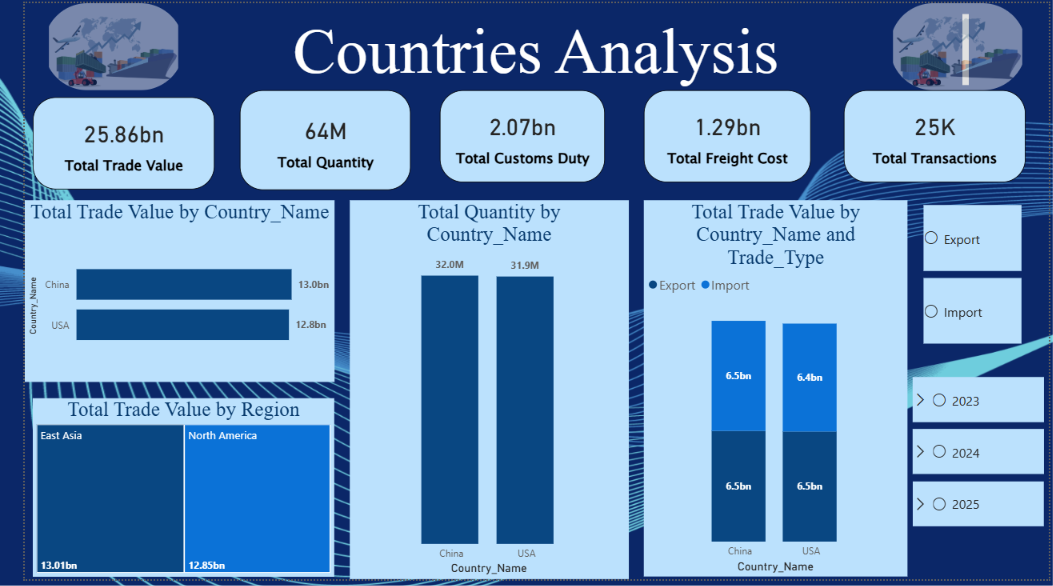

What the dashboard file says about the page in this screenshot:
{"tool":"powerbi","page":{"name":"Countries Analysis","canvas":[1280,720],"ordinal":1},"visuals":[{"type":"card","fields":{"Values":["Companies.Total Trade Value"]},"box":[10,117.5,227.5,115],"z":0},{"type":"card","fields":{"Values":["Companies.Total Quantity"]},"box":[269,108.8,214,124.7],"z":1000},{"type":"card","fields":{"Values":["Companies.Total Customs Duty"]},"box":[518.5,108.8,206.7,114.9],"z":2000},{"type":"card","fields":{"Values":["Companies.Total Freight Cost"]},"box":[774.1,108.8,209.1,114.9],"z":3000},{"type":"card","fields":{"Values":["Companies.Total Transactions"]},"box":[1023.5,108.8,227.4,114.9],"z":4000},{"type":"clusteredBarChart","fields":{"Category":["Countries.Country_Name"],"Y":["Companies.Total Trade Value"]},"box":[0,246.2,387.5,227.5],"z":5000},{"type":"columnChart","fields":{"Category":["Countries.Country_Name"],"Series":["Trade_Transactions_25000.Trade_Type"],"Y":["Companies.Total Trade Value"]},"box":[773.7,246,330,470.8],"z":6000},{"type":"clusteredColumnChart","fields":{"Category":["Countries.Country_Name"],"Y":["Companies.Total Quantity"]},"box":[406.8,246,348.4,473.6],"z":7000},{"type":"treemap","fields":{"Group":["Countries.Region"],"Values":["Companies.Total Trade Value"]},"box":[10,493.5,376.9,223.3],"z":8000},{"type":"listSlicer","fields":{"Values":["Trade_Transactions_25000.Trade_Type"]},"box":[1118.1,232.3,132.7,215],"z":9000},{"type":"listSlicer","fields":{"Values":["Trade_Transactions_25000.Trade_Date.Variation.Date Hierarchy.Year","Trade_Transactions_25000.Trade_Date.Variation.Date Hierarchy.Quarter","Trade_Transactions_25000.Trade_Date.Variation.Date Hierarchy.Month","Trade_Transactions_25000.Trade_Date.Variation.Date Hierarchy.Day"]},"box":[1105.2,447.3,174.6,226.5],"z":10000},{"type":"textbox","box":[100,8.8,1085,100],"z":11000},{"type":"image","box":[23.8,0,175,108.8],"z":12000},{"type":"image","box":[1081.2,0,170,108.8],"z":13000}]}

Visuals, with their boxes in screenshot pixels (x1, y1, x2, y2), scaled from the page's 1280x720 canvas onto the 1053x586 screenshot:
card - Companies.Total Trade Value: Rect(8, 96, 195, 189)
card - Companies.Total Quantity: Rect(221, 89, 397, 190)
card - Companies.Total Customs Duty: Rect(427, 89, 597, 182)
card - Companies.Total Freight Cost: Rect(637, 89, 809, 182)
card - Companies.Total Transactions: Rect(842, 89, 1029, 182)
clusteredBarChart - Countries.Country_Name x Companies.Total Trade Value: Rect(0, 200, 319, 386)
columnChart - Countries.Country_Name x Trade_Transactions_25000.Trade_Type: Rect(636, 200, 908, 583)
clusteredColumnChart - Countries.Country_Name x Companies.Total Quantity: Rect(335, 200, 621, 585)
treemap - Countries.Region x Companies.Total Trade Value: Rect(8, 402, 318, 583)
listSlicer - Trade_Transactions_25000.Trade_Type: Rect(920, 189, 1029, 364)
listSlicer - Trade_Transactions_25000.Trade_Date.Variation.Date Hierarchy.Year x Trade_Transactions_25000.Trade_Date.Variation.Date Hierarchy.Quarter: Rect(909, 364, 1052, 548)
textbox: Rect(82, 7, 975, 89)
image: Rect(20, 0, 164, 89)
image: Rect(889, 0, 1029, 89)
